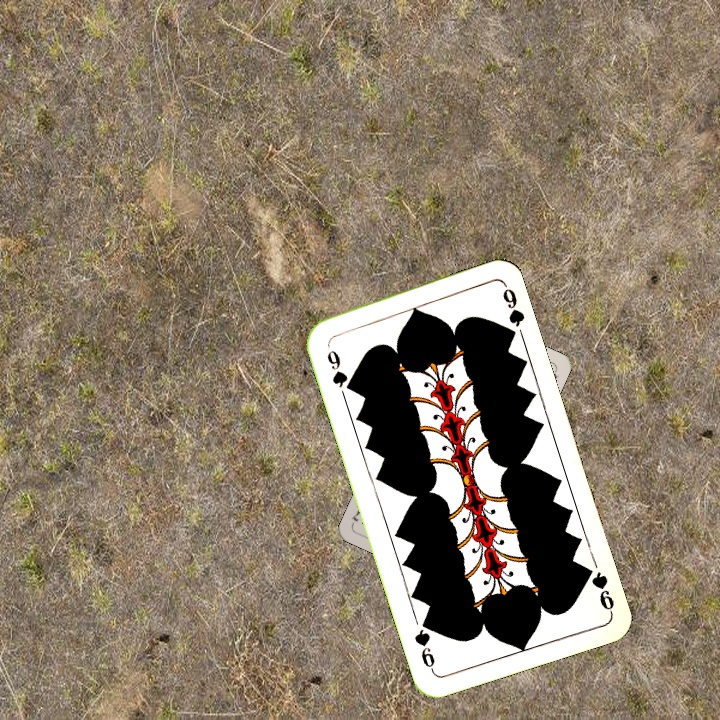G9: (579, 562, 617, 616), (323, 346, 355, 394)
